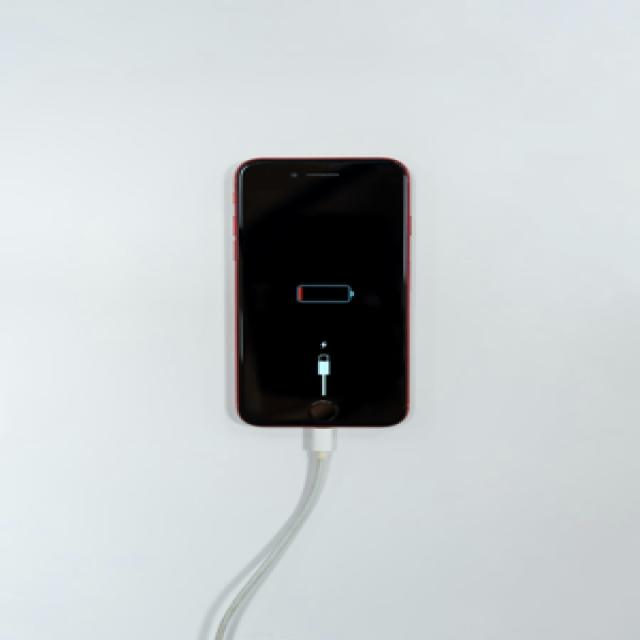cellphone: (230, 155, 410, 427)
